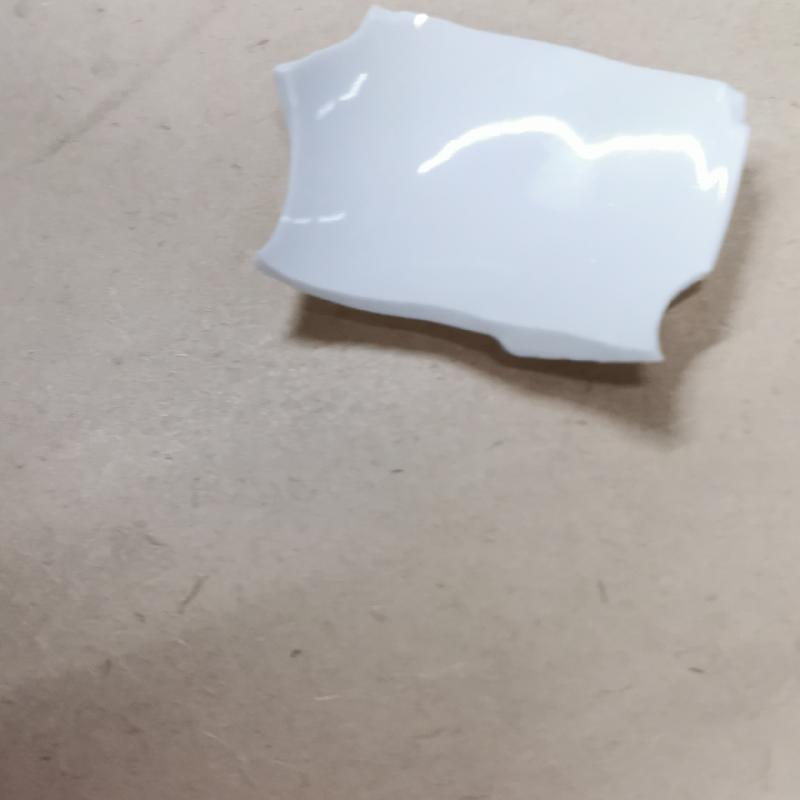ceram: (249, 5, 770, 388)
